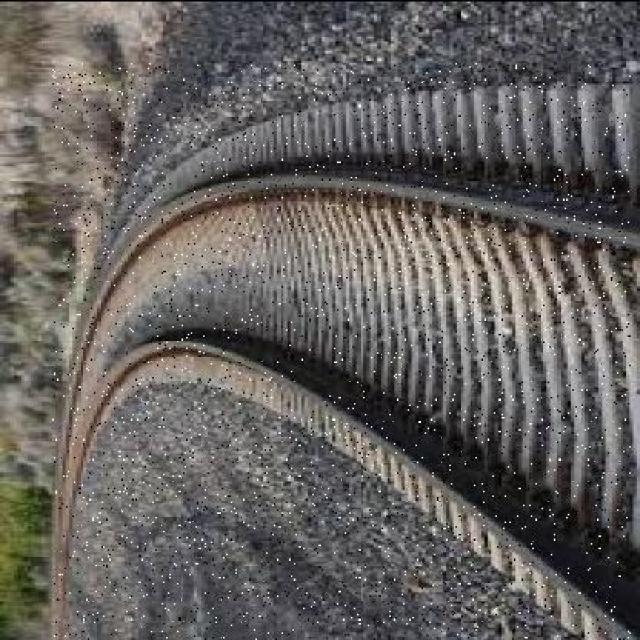rail: (54, 63, 632, 640)
